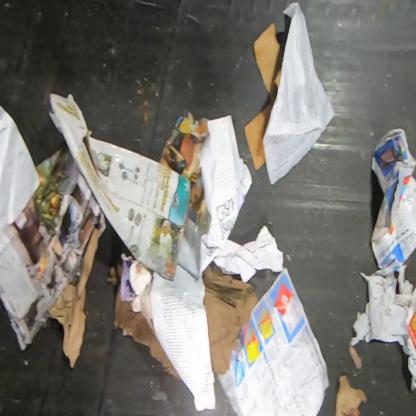cardboard: (47, 93, 192, 284), (105, 258, 179, 377), (203, 261, 258, 374), (244, 21, 285, 170)
